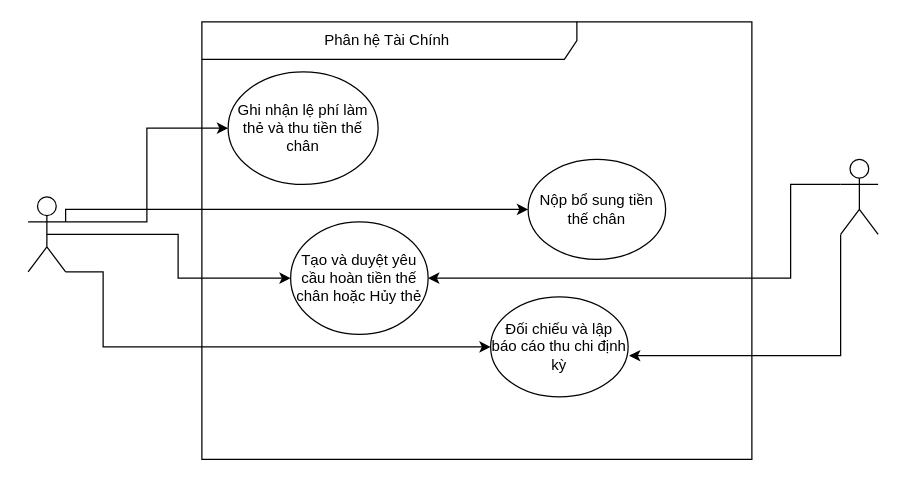
Some shapes in this 908 by 481 pixel diagram are drawn without their labels. The centre of each missing label's shape, as x and y in pixels:
Kế toán: the point at 46,234
Thủ quỹ: the point at 858,196
